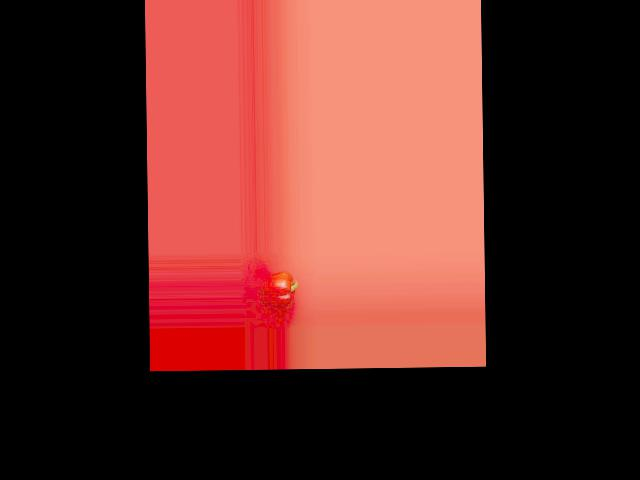bell_pepper: (257, 273, 299, 310)
